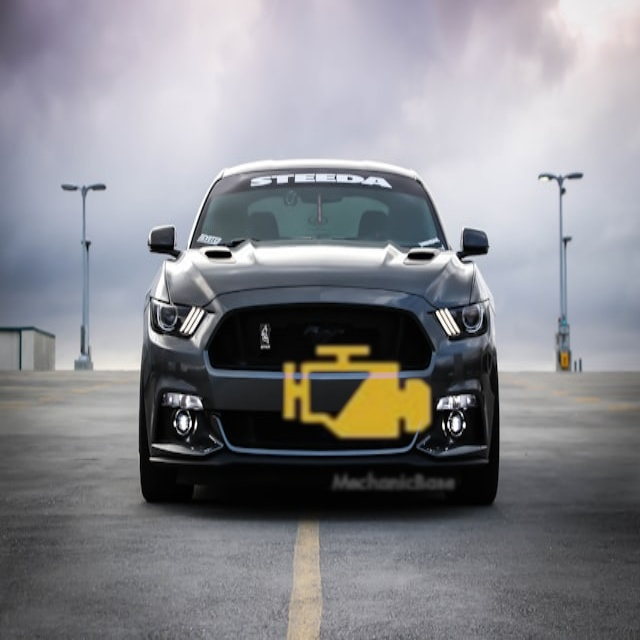symbol: (249, 286, 463, 500)
